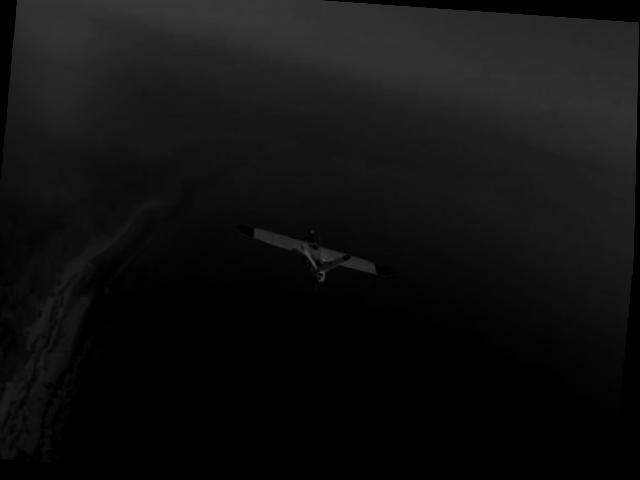hedef: (215, 197, 418, 318)
